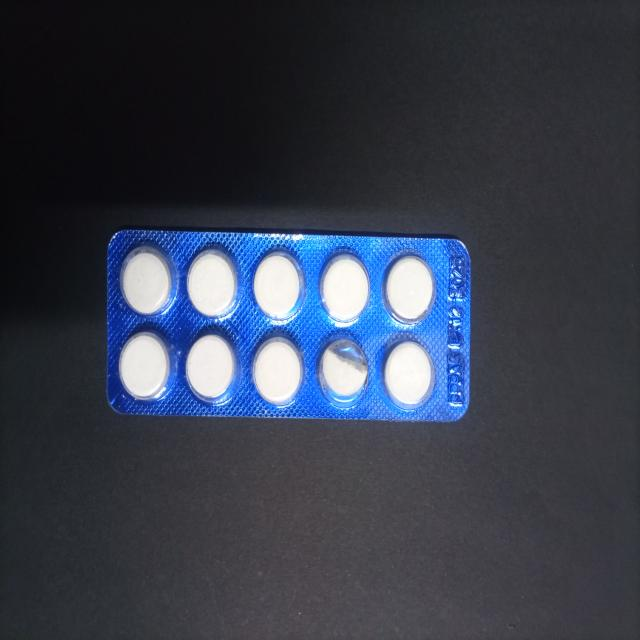defect: (316, 334, 372, 410)
